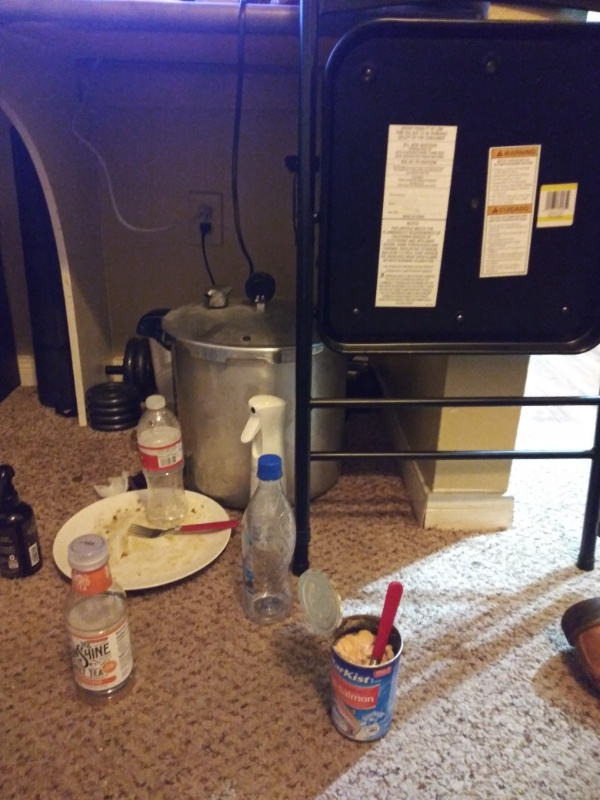bottle: (57, 530, 146, 706), (237, 454, 297, 628), (132, 391, 190, 533)
